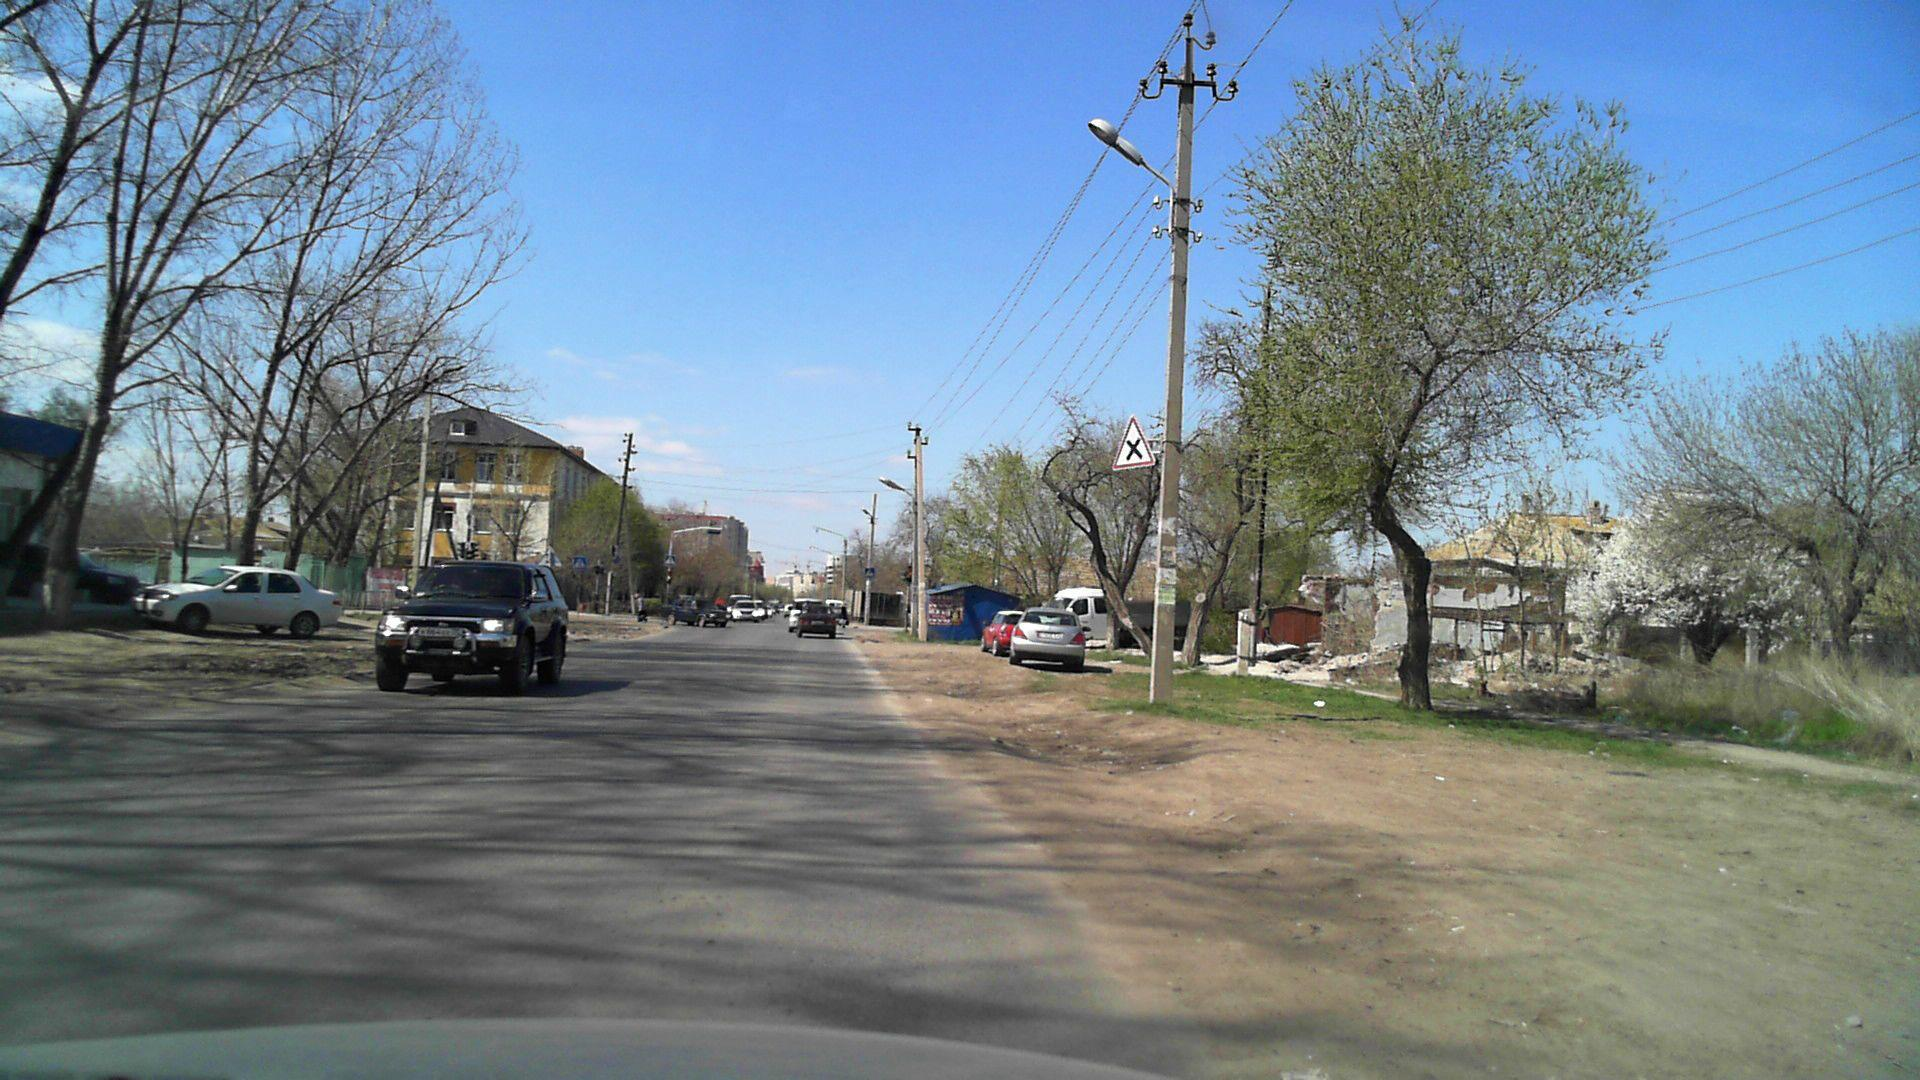1_6: (1112, 413, 1156, 469)
5_19_1: (865, 567, 874, 578)
5_19_2: (575, 556, 587, 568), (665, 555, 675, 564)
